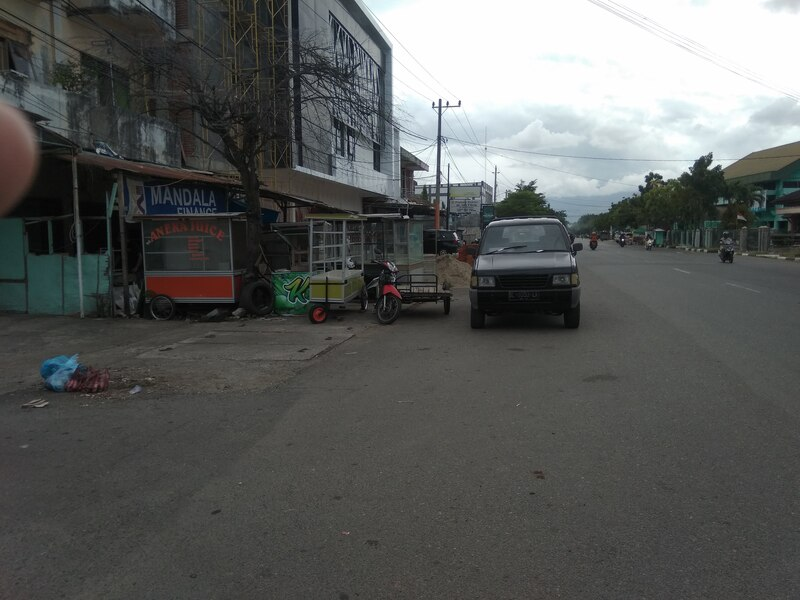becak barang: (370, 242, 457, 328)
